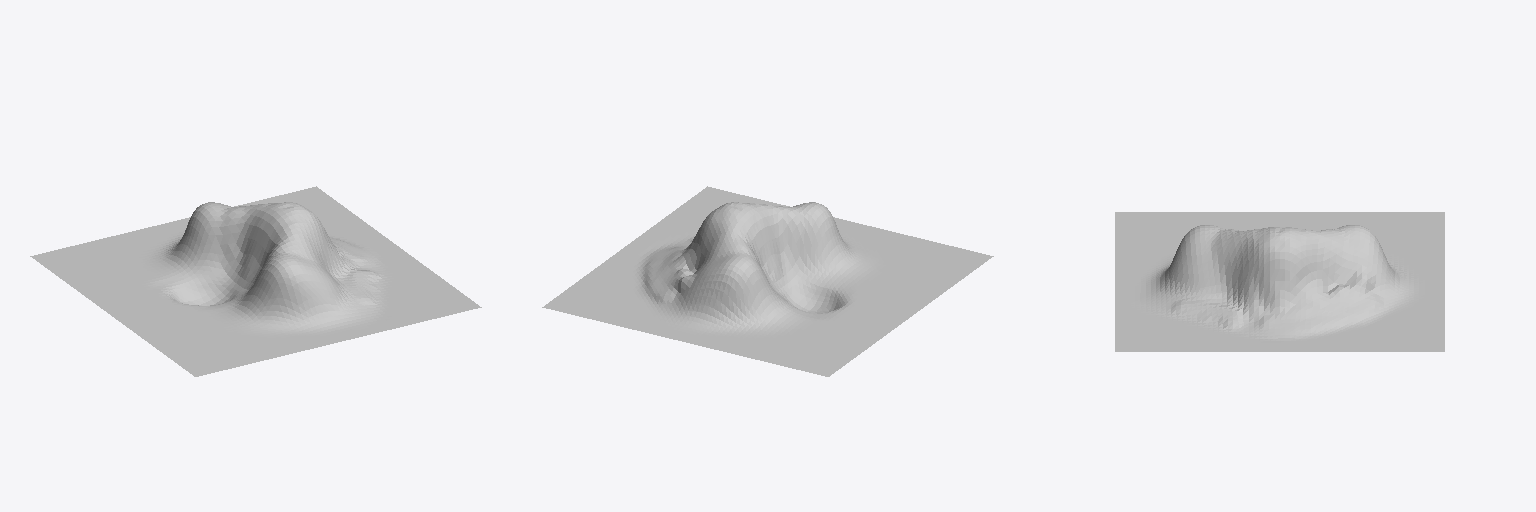
The model's file is Hill.obj.
3 renders of one model, left to right at view 1: azimuth 30°, elevation 25°; view 2: azimuth 150°, elevation 25°; view 3: azimuth 270°, elevation 25°, orthographic.
Visible parts, largest first — view 1: Plane; view 2: Plane; view 3: Plane.
Boxes of the visible parts, <box> form: Plane: <box>30,186,481,376</box>; Plane: <box>542,186,993,376</box>; Plane: <box>1115,212,1444,351</box>.
Bounding box in the file's own units: 69.52 × 19.41 × 69.52.